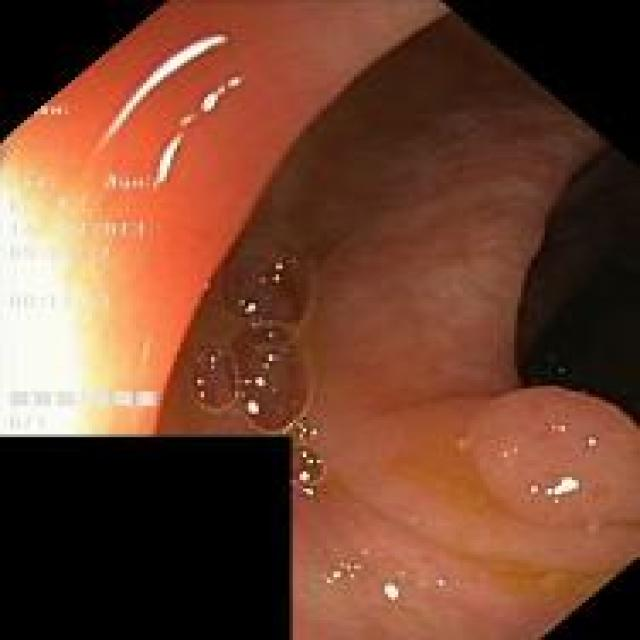Polyps: (472, 388, 640, 524)
